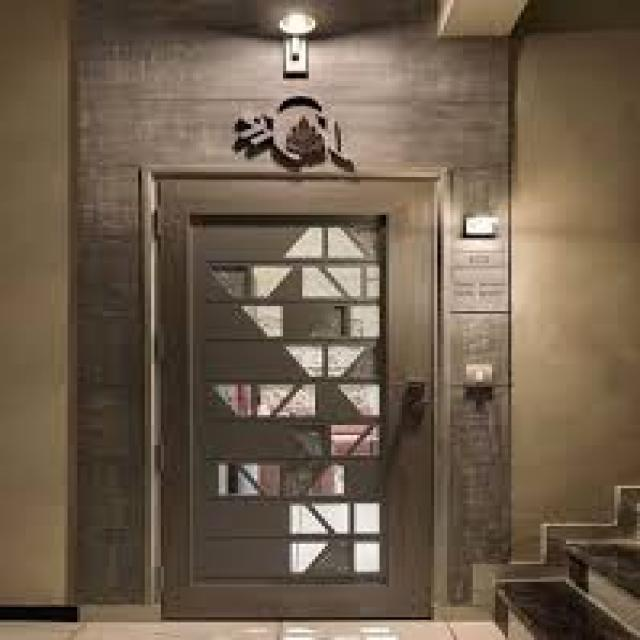doorhandle: (162, 177, 427, 621)
